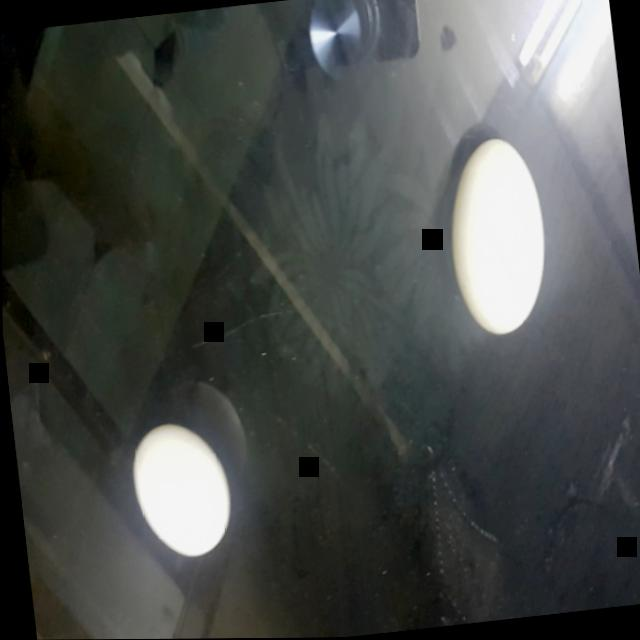eggs: (441, 133, 557, 341), (125, 417, 238, 560)
